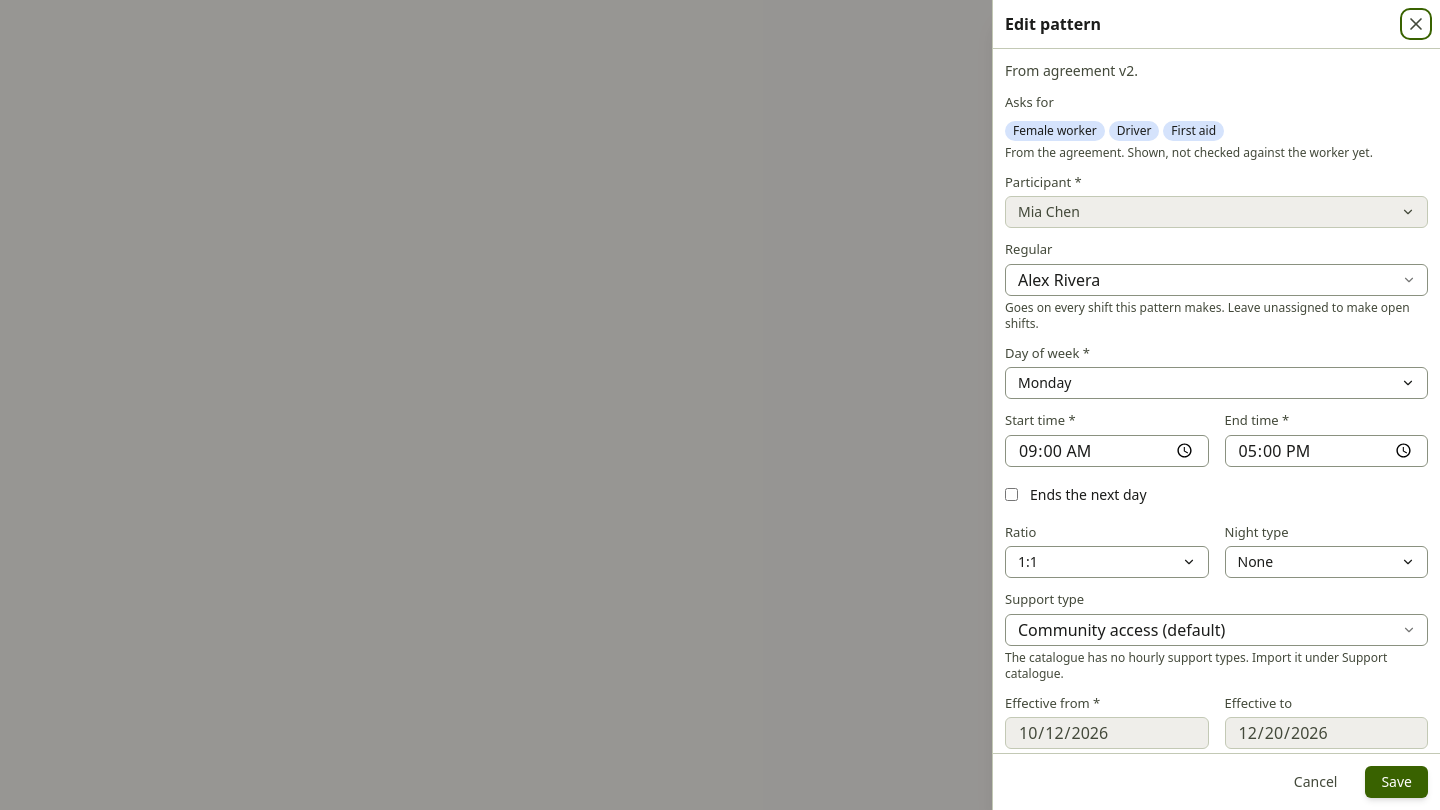
Test: PatternSlideOver — a pattern an agreement made › says where a new default staff is saved when it is changed with the times, and says nothing when only the times change
Step 1. Replace the text in the time field labelled "Start time *" with "10:00" → (1107, 450), box [1005,434,1208,466]
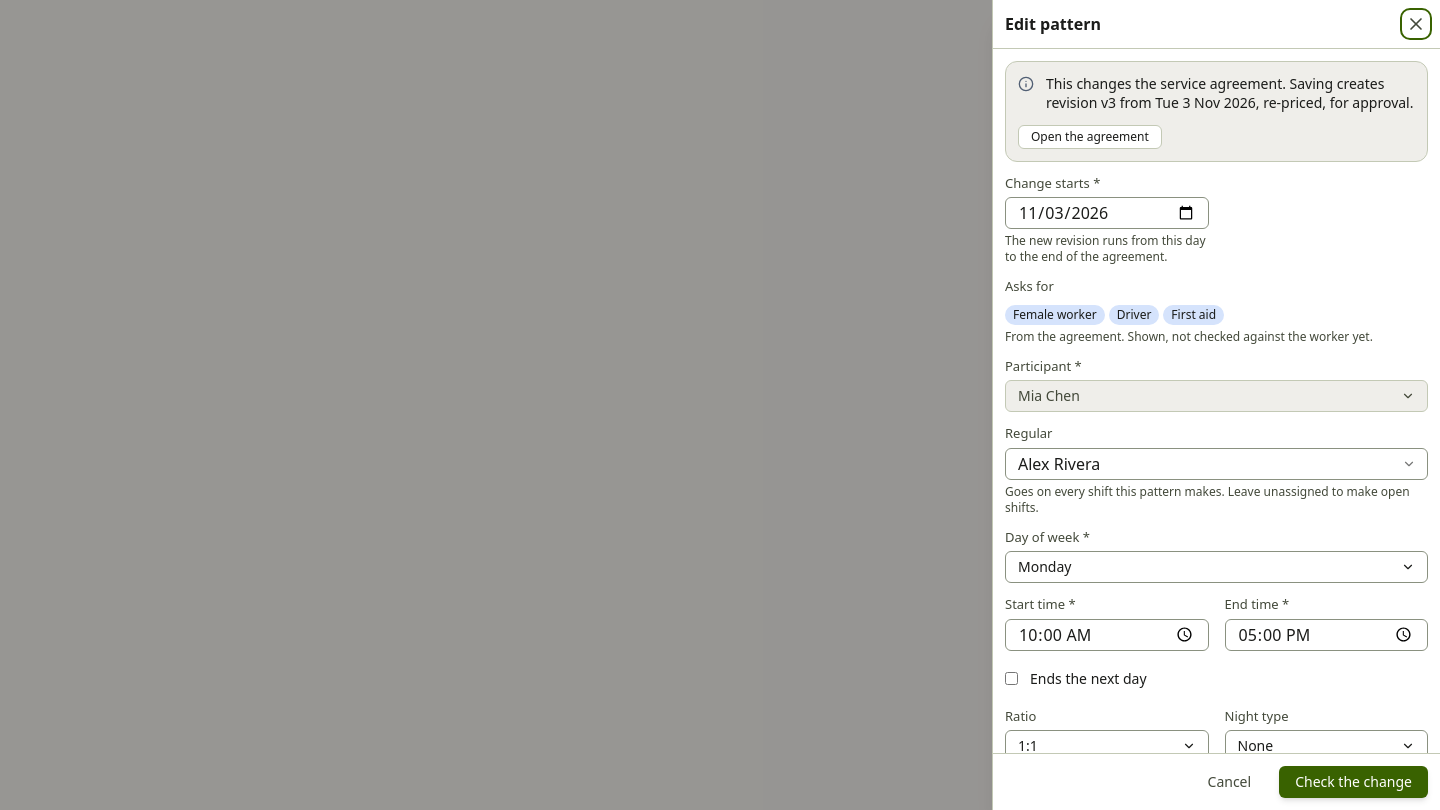
Step 2. Type "2026-10-19" into the date field labelled "Change starts *" → (1107, 213), box [1005,197,1208,229]
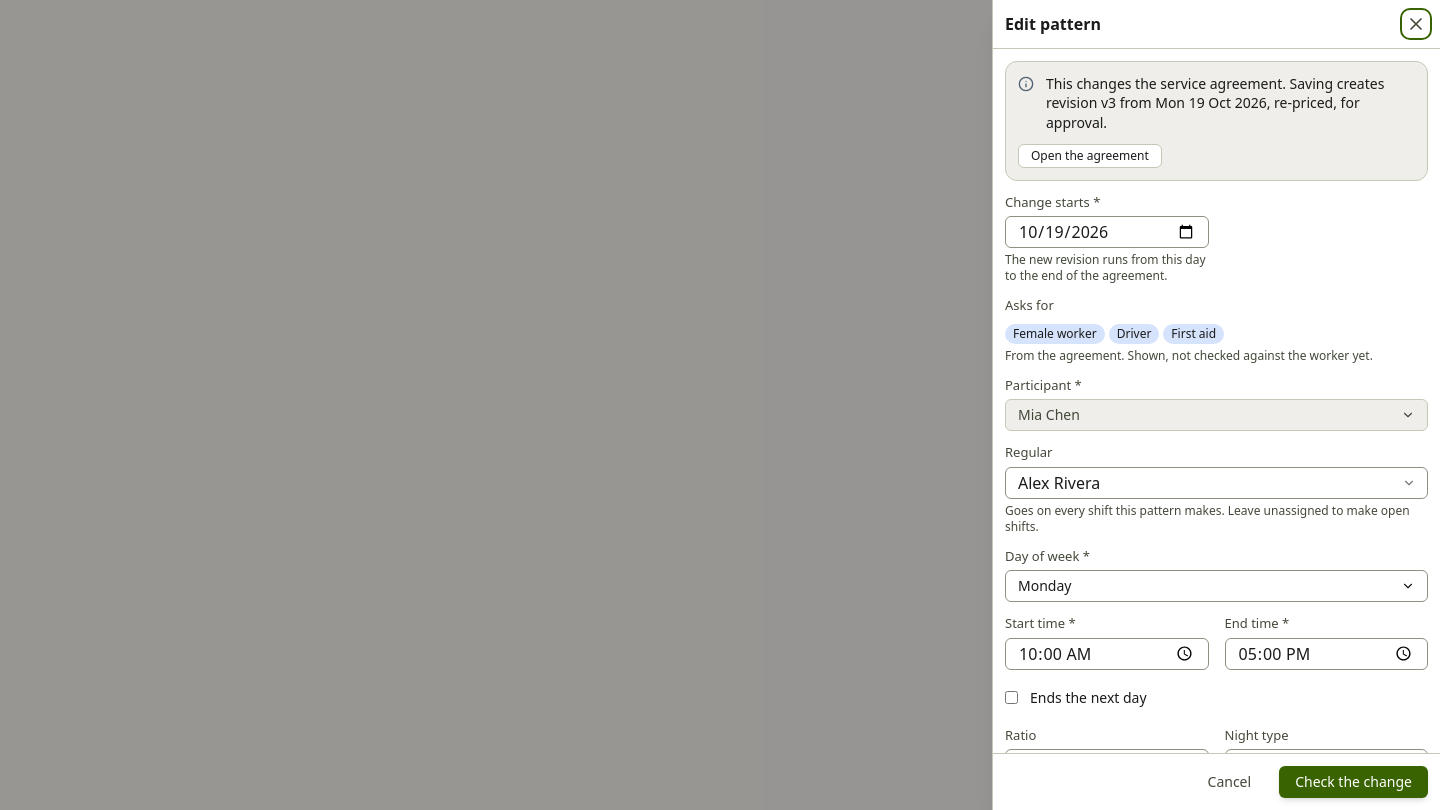
Step 3. Click the dropdown labelled "Regular" → click(1216, 483), box [1005,467,1428,499]
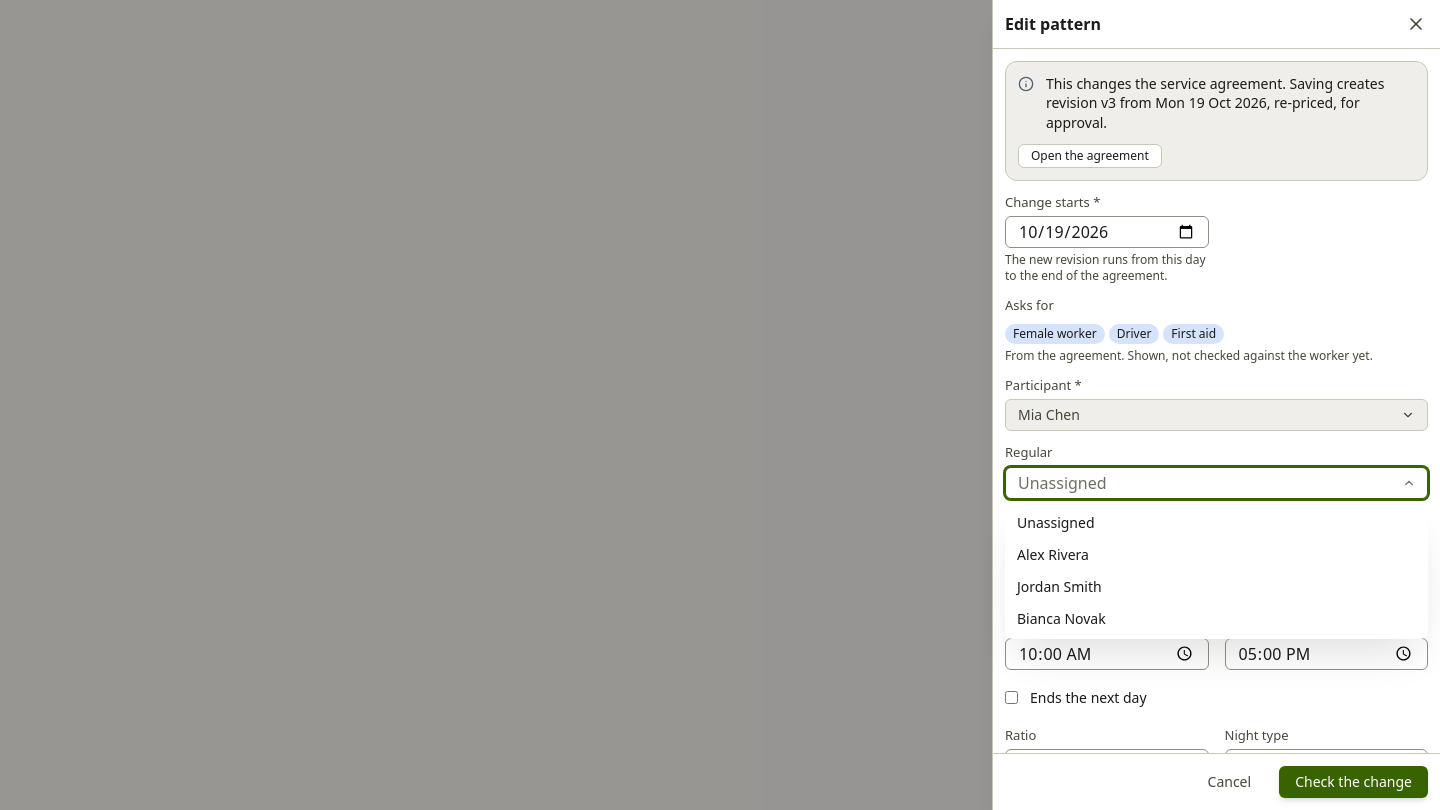
Step 4. Click the option "Jordan Smith" → click(1059, 586), box [1017,577,1102,596]
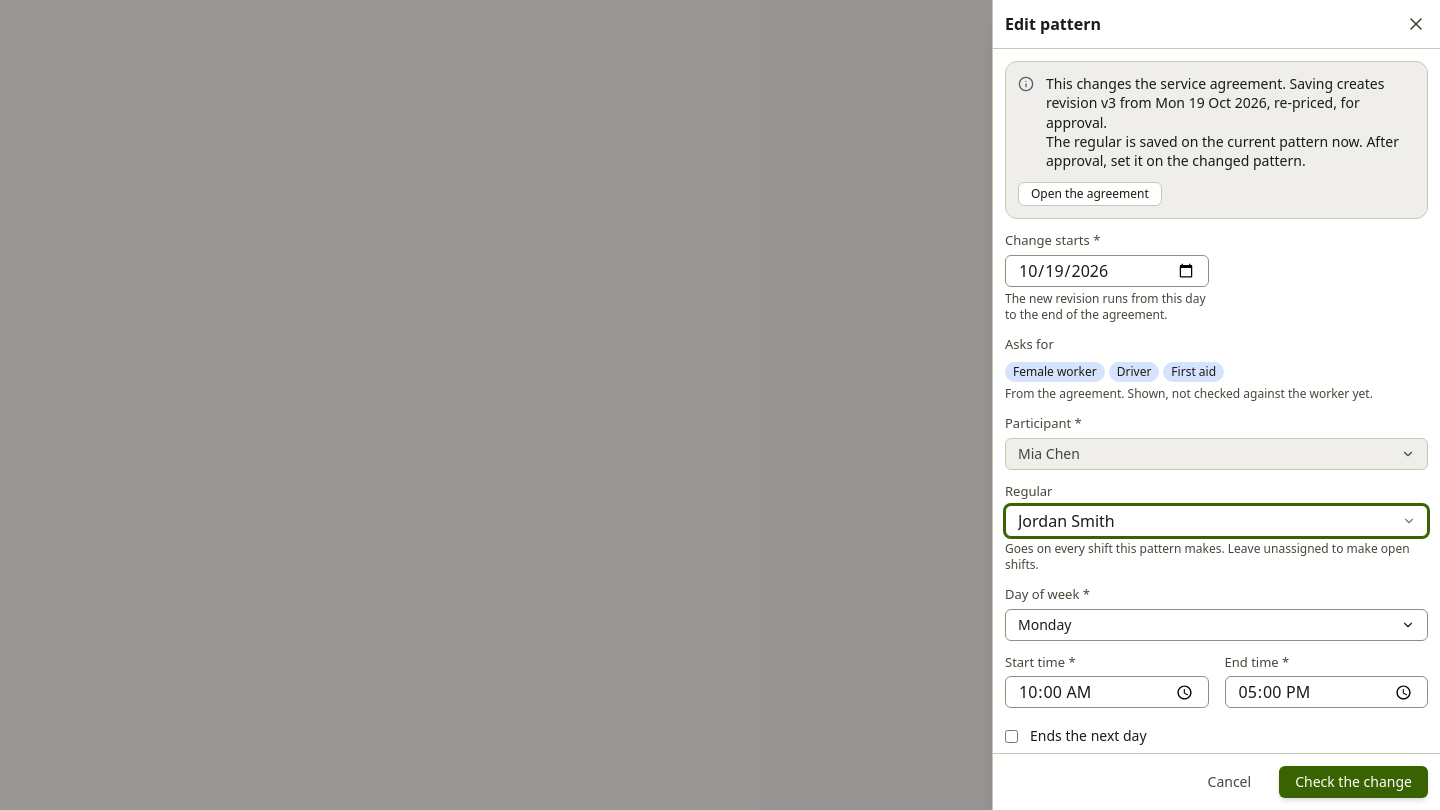
expect the text "The regular is saved on the current pattern now. After approval, set it on the changed pattern." is shown: met, box [1046,132,1399,170]
